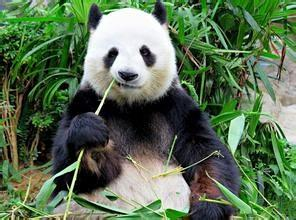panda: (49, 1, 244, 220)
